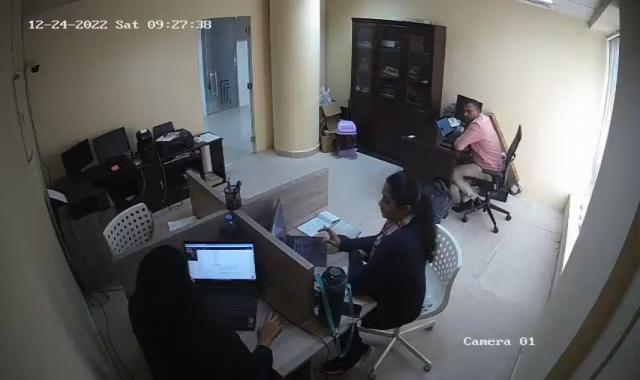no_hairnet: (379, 170, 419, 220), (462, 101, 479, 121)
